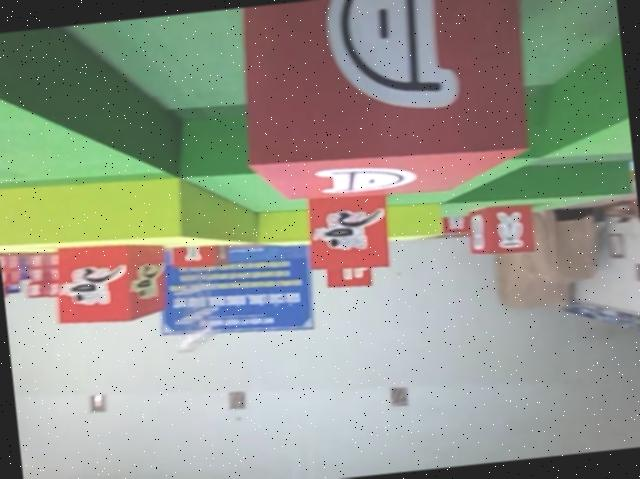R1: (49, 232, 174, 331), (302, 184, 395, 277)
R2 Fake: (464, 200, 539, 262)
R2 Real: (230, 0, 542, 213)
